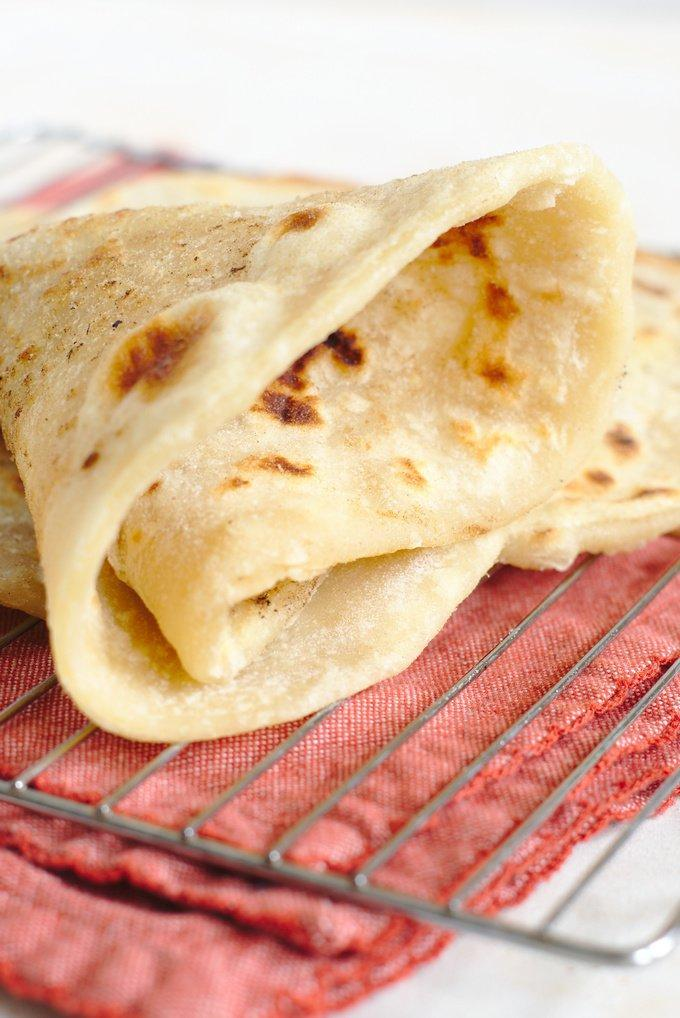roti: (0, 134, 680, 740)
